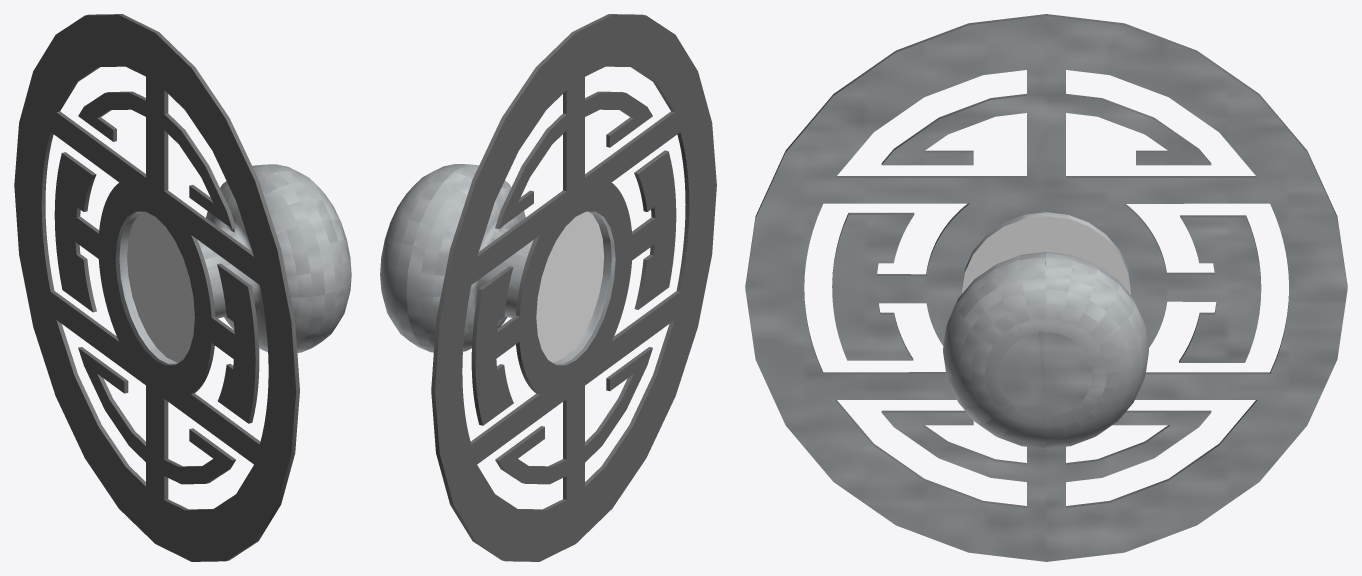
Rendered from door knob.fbx.
The picture shows the model from 3 angles, left to right: view 1: azimuth 30°, elevation 25°; view 2: azimuth 150°, elevation 25°; view 3: azimuth 270°, elevation 25°; orthographic projection. The views are drawn at different scales.
Parts seen in each view (by area): view 1: DOOR_ESCUTCHEON___ASIAN_MCM_1_1, DOOR_KNOB_ORBIT1; view 2: DOOR_ESCUTCHEON___ASIAN_MCM_1_1, DOOR_KNOB_ORBIT1; view 3: DOOR_ESCUTCHEON___ASIAN_MCM_1_1, DOOR_KNOB_ORBIT1.
Part boxes in pixels (left/top/right/bottom): DOOR_ESCUTCHEON___ASIAN_MCM_1_1: left=14, top=14, right=299, bottom=561; DOOR_KNOB_ORBIT1: left=197, top=164, right=351, bottom=352; DOOR_ESCUTCHEON___ASIAN_MCM_1_1: left=431, top=14, right=716, bottom=561; DOOR_KNOB_ORBIT1: left=380, top=164, right=533, bottom=352; DOOR_ESCUTCHEON___ASIAN_MCM_1_1: left=745, top=14, right=1347, bottom=561; DOOR_KNOB_ORBIT1: left=943, top=252, right=1148, bottom=448.
Size of the model in its own units: 2.74 by 8 by 8.
